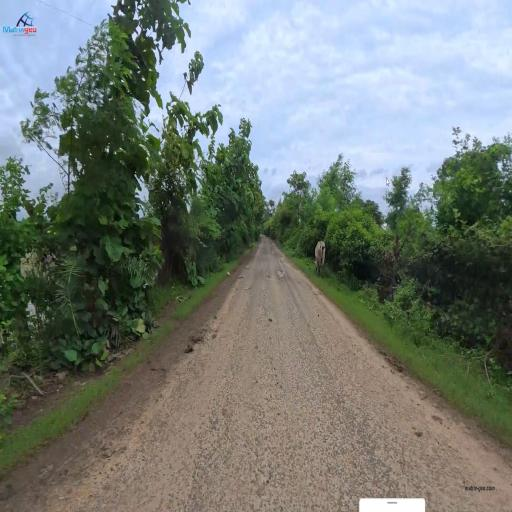ravelling: (244, 340, 359, 472)
